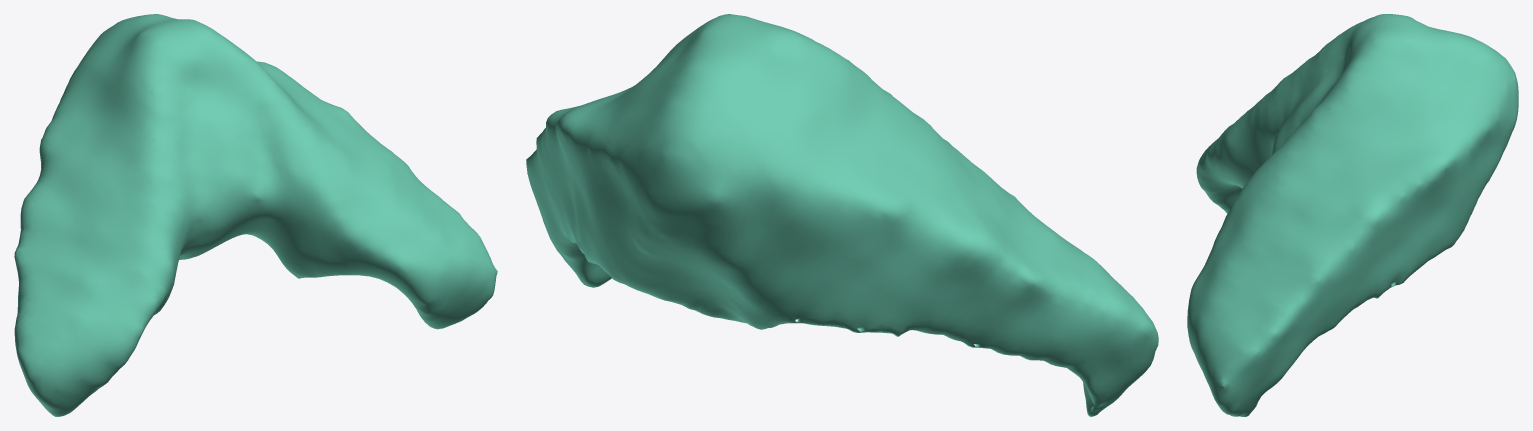
The model's file is cerebellum_lobules_anterior.glb.
3 views of the same model, side by side, from view 1: azimuth 30°, elevation 25°; view 2: azimuth 150°, elevation 25°; view 3: azimuth 270°, elevation 25° (orthographic). The views are drawn at different scales.
Visible parts, largest first — view 1: Lobulillos Anteriores (I - V); view 2: Lobulillos Anteriores (I - V); view 3: Lobulillos Anteriores (I - V).
Boxes of the visible parts, bbox=[...] form: Lobulillos Anteriores (I - V): bbox=[14, 14, 497, 416]; Lobulillos Anteriores (I - V): bbox=[526, 14, 1158, 416]; Lobulillos Anteriores (I - V): bbox=[1187, 14, 1518, 416].
Size of the model in its own units: 2.22 by 1.34 by 1.35.
